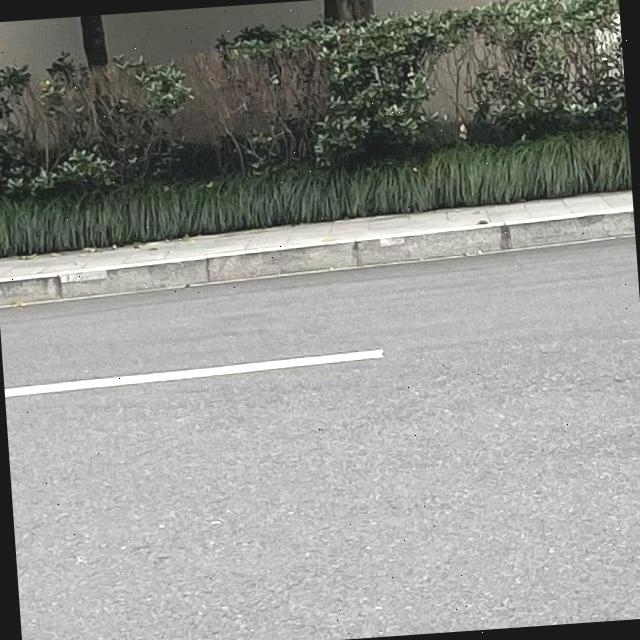curb: (0, 209, 633, 305)
